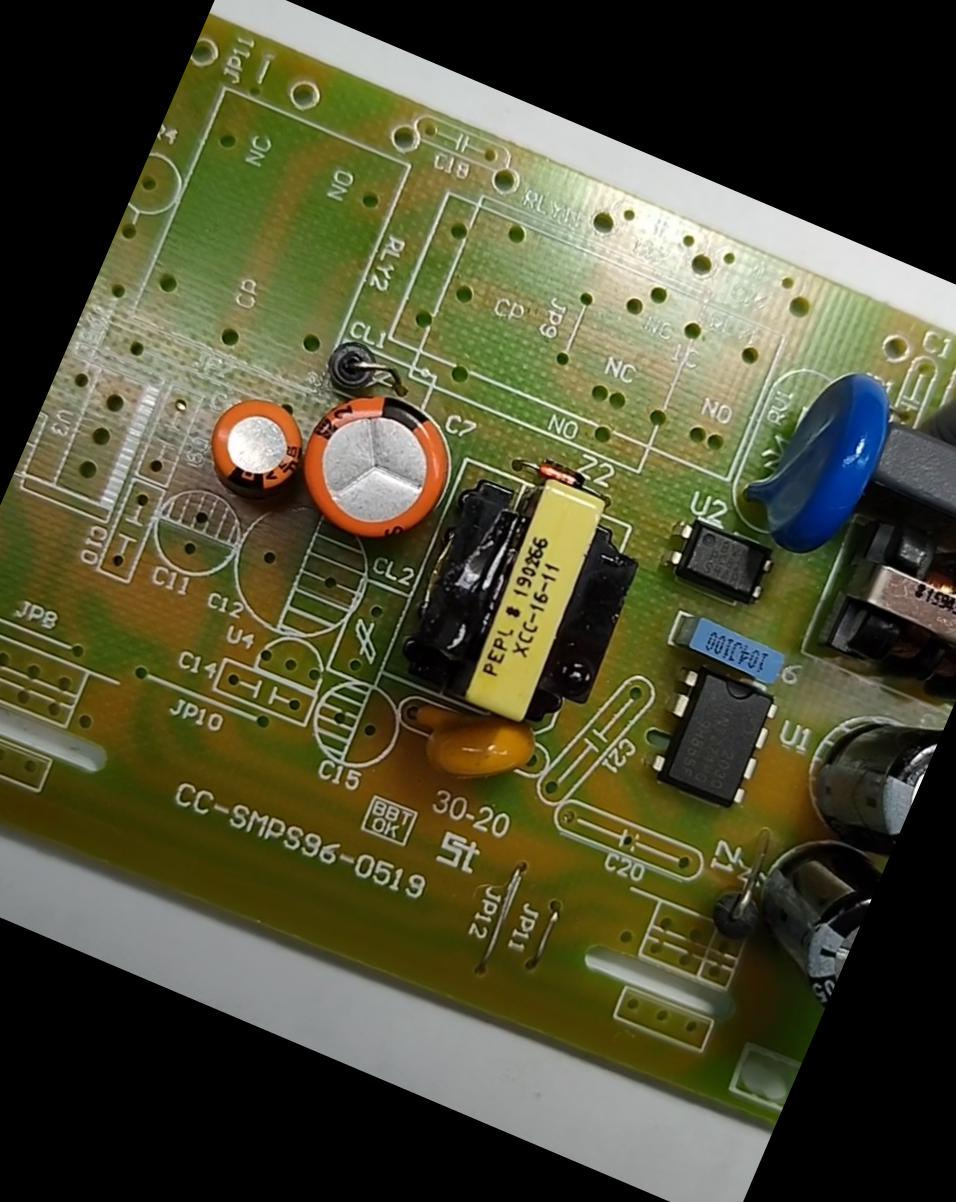Cap1: (276, 368, 476, 566)
Cap2: (195, 382, 319, 508)
Cap3: (788, 676, 947, 861)
Cap4: (726, 827, 884, 1020)
MOSFET: (637, 654, 791, 820)
Mov: (724, 342, 912, 570)
Resistor: (910, 351, 955, 471)
Transformer: (382, 438, 667, 750), (804, 497, 955, 714)
